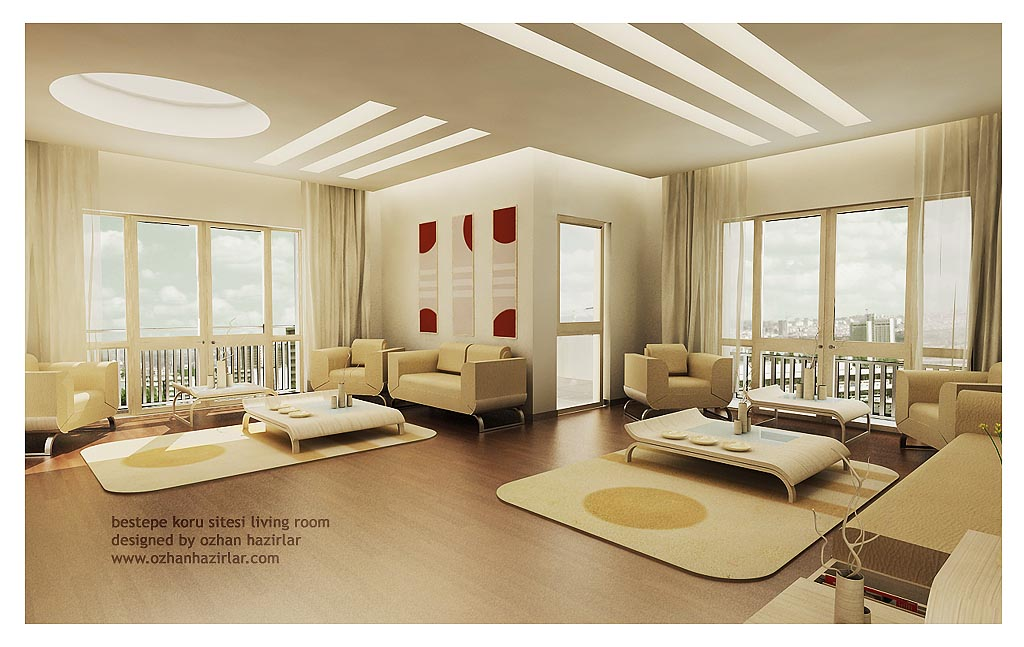chair: (388, 342, 532, 442), (26, 345, 119, 450), (888, 362, 1005, 443), (625, 341, 734, 414), (307, 335, 385, 405)
